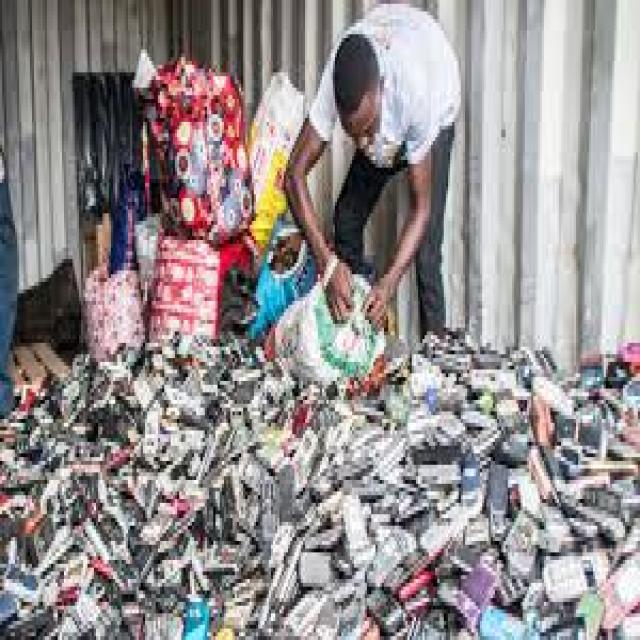Hazard: (0, 310, 629, 619)
